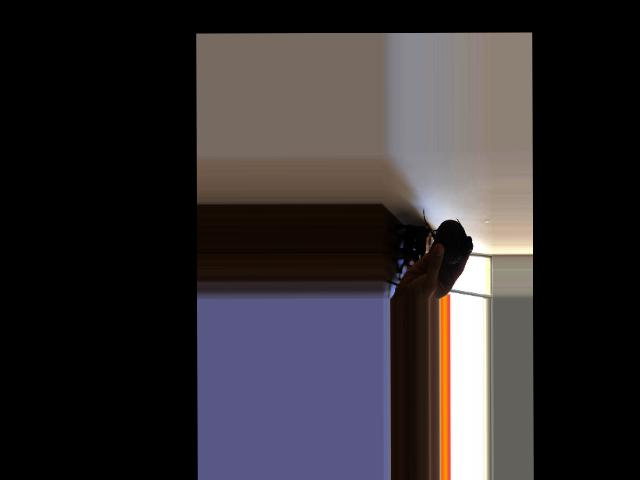beet: (422, 207, 472, 263)
